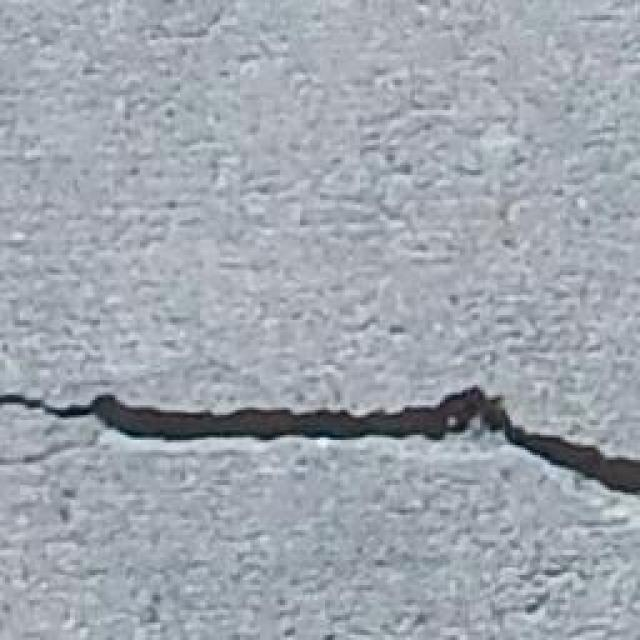concrete-crack: (2, 380, 640, 514)
